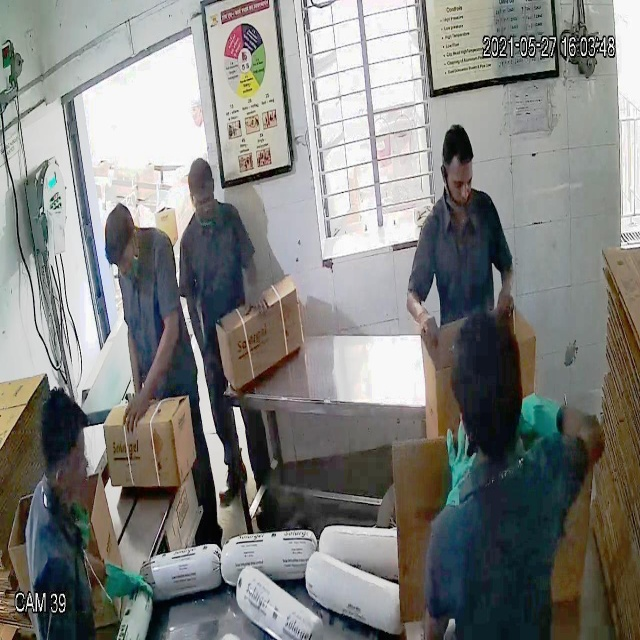Sin_gafas: (440, 163, 474, 198)
